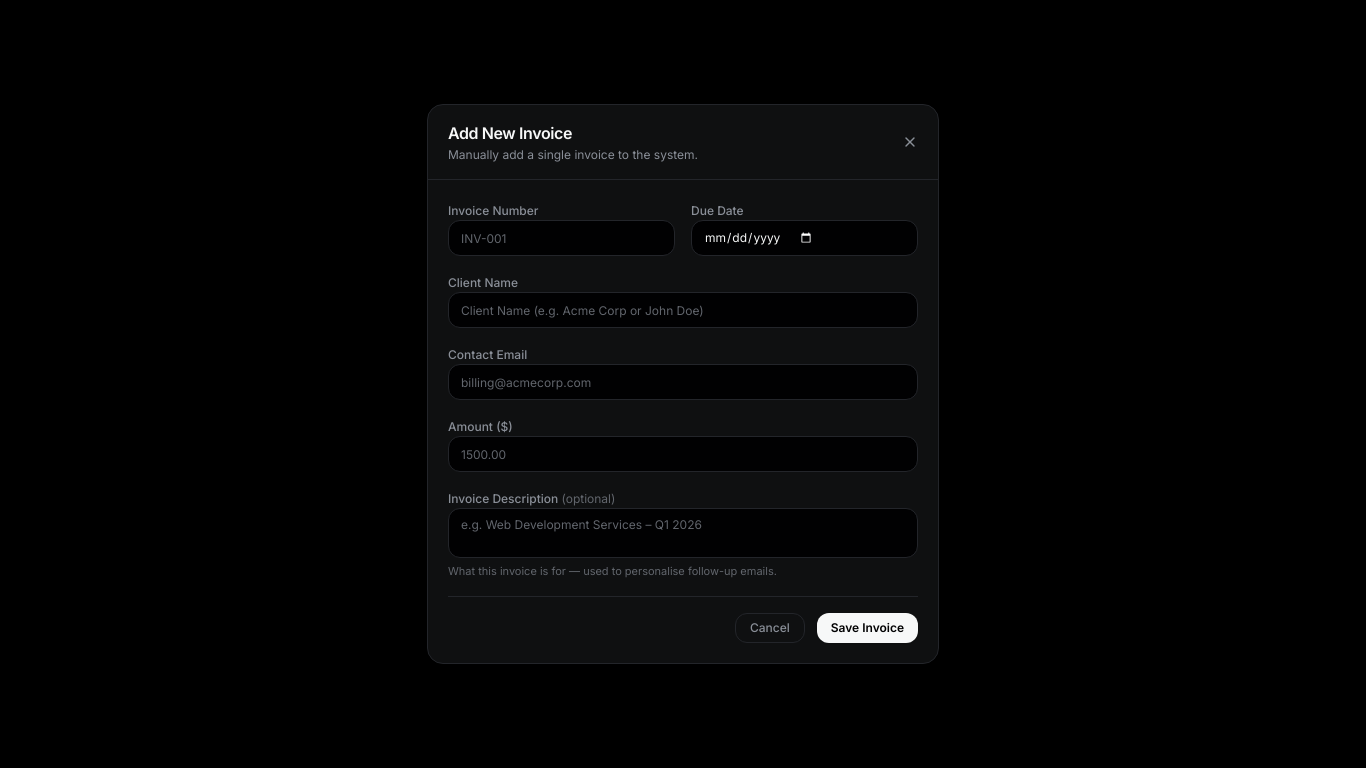
Test case: CreateInvoiceModal component › renders server-side error messages from mutate responses
The width and height of the screenshot is (1366, 768).
// Fill minimum fields
Type "INV-999" into the field labelled "Invoice Number" at (562, 238), box [448, 220, 675, 256]
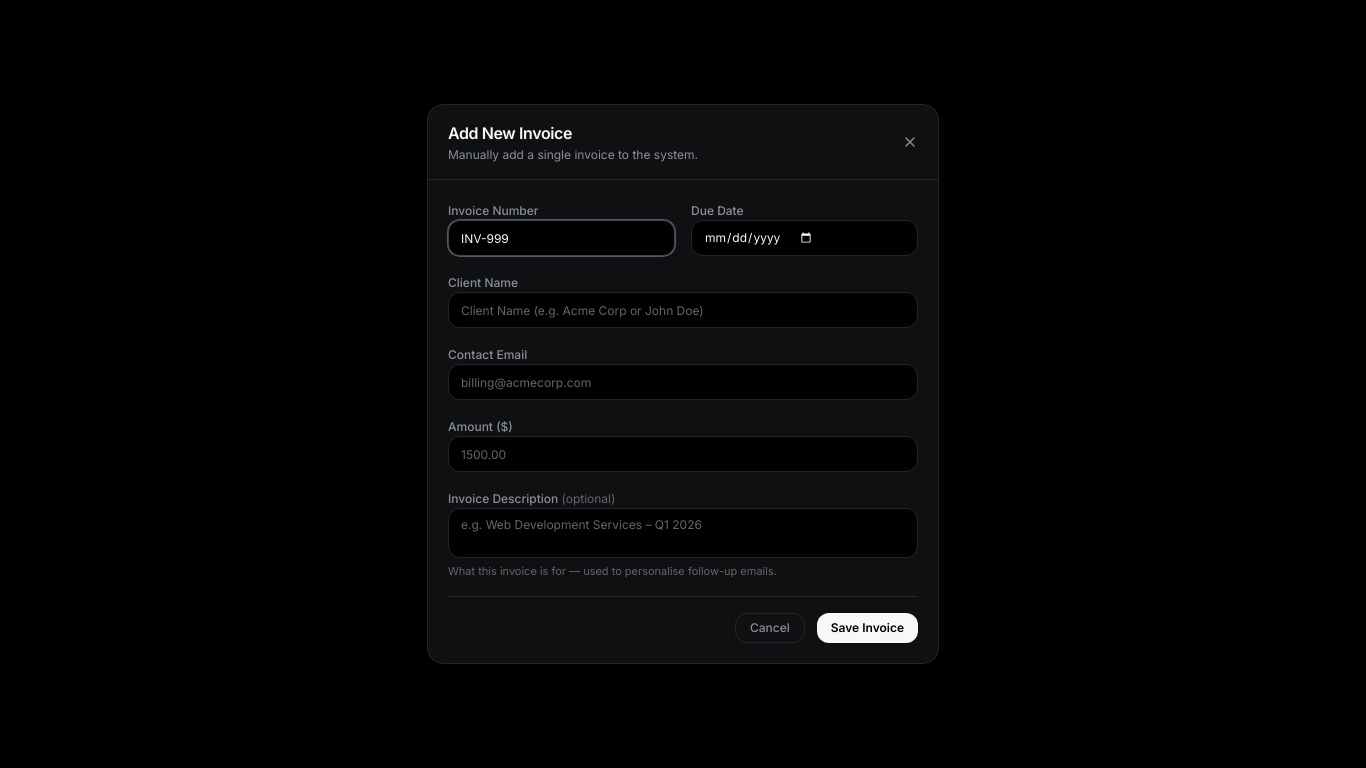
Type "Acme Client" into the field labelled "Client Name" at (683, 310), box [448, 292, 918, 328]
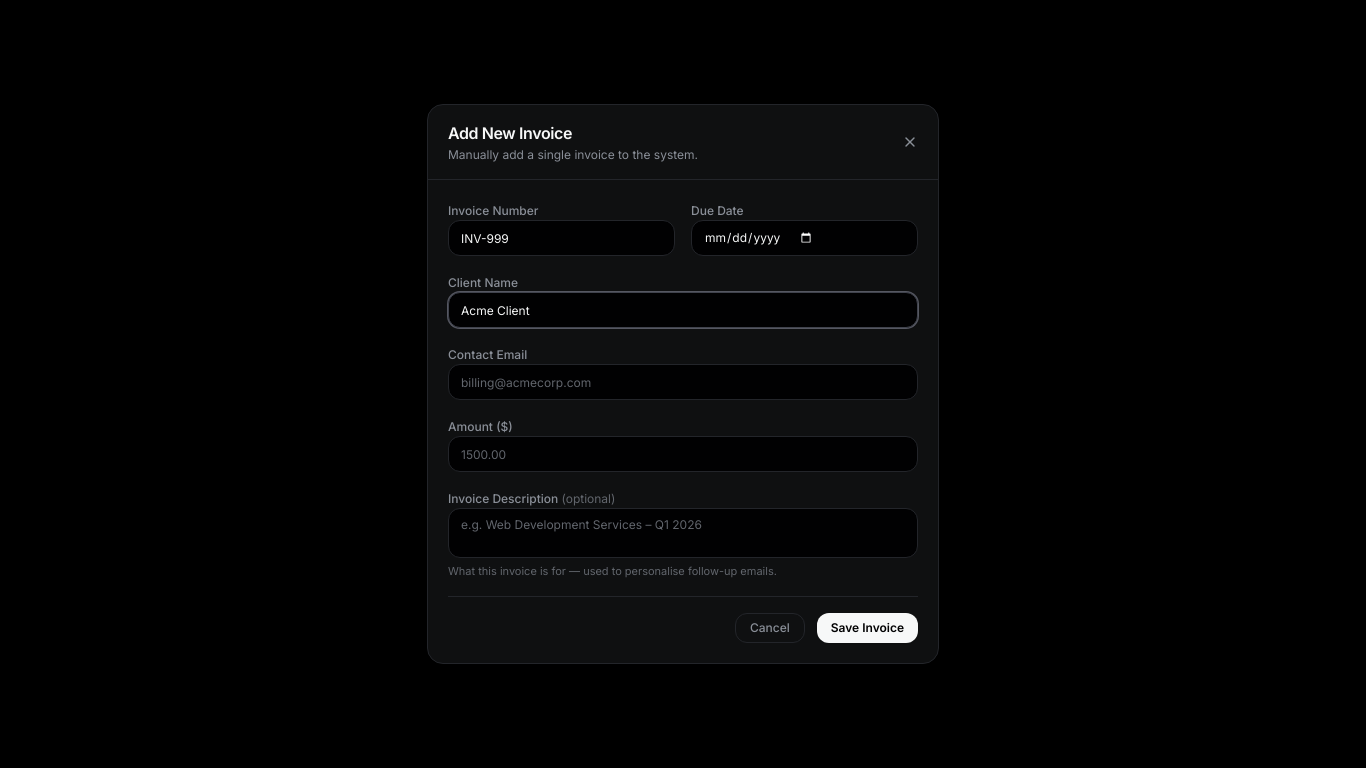
Type "4500" into the number field labelled "Amount ($)" at (683, 454), box [448, 436, 918, 472]
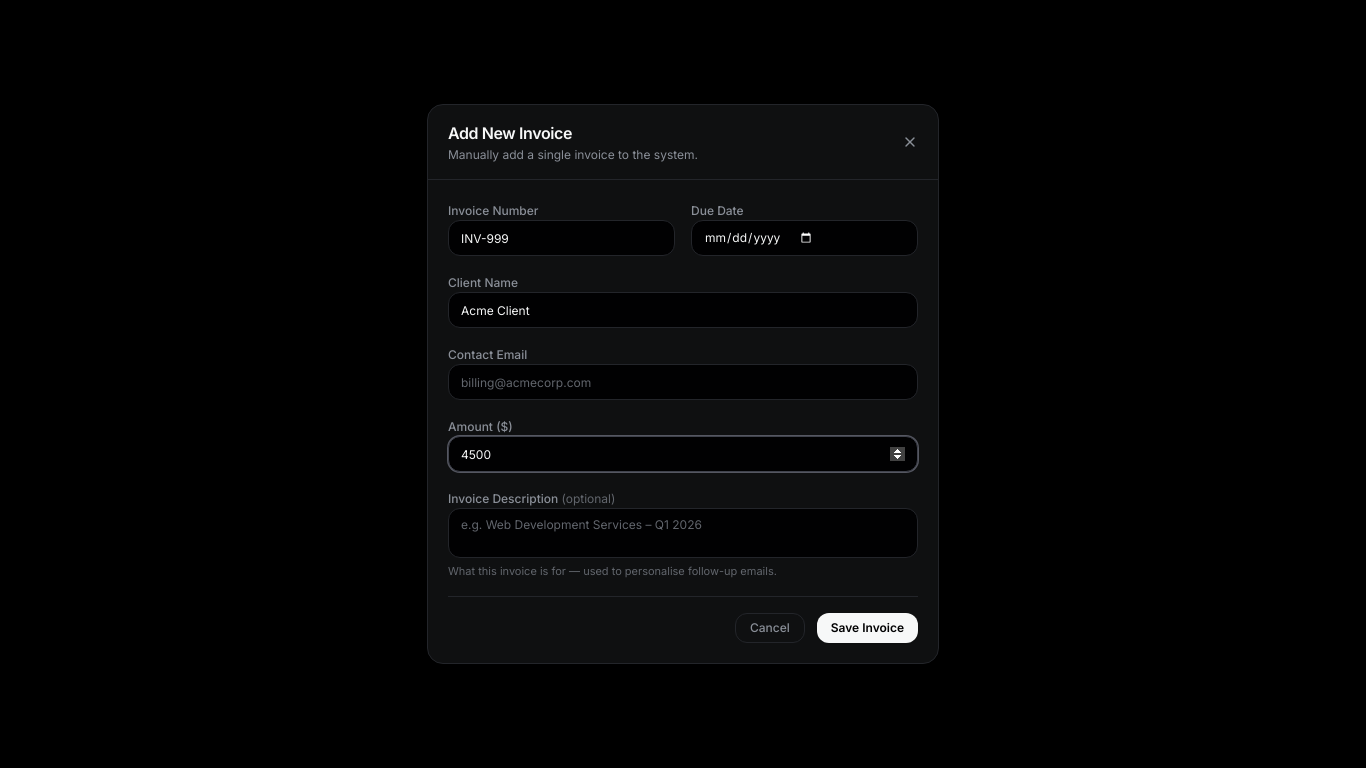
Type "2026-08-15" into the date field labelled "Due Date" at (804, 238), box [691, 220, 918, 256]
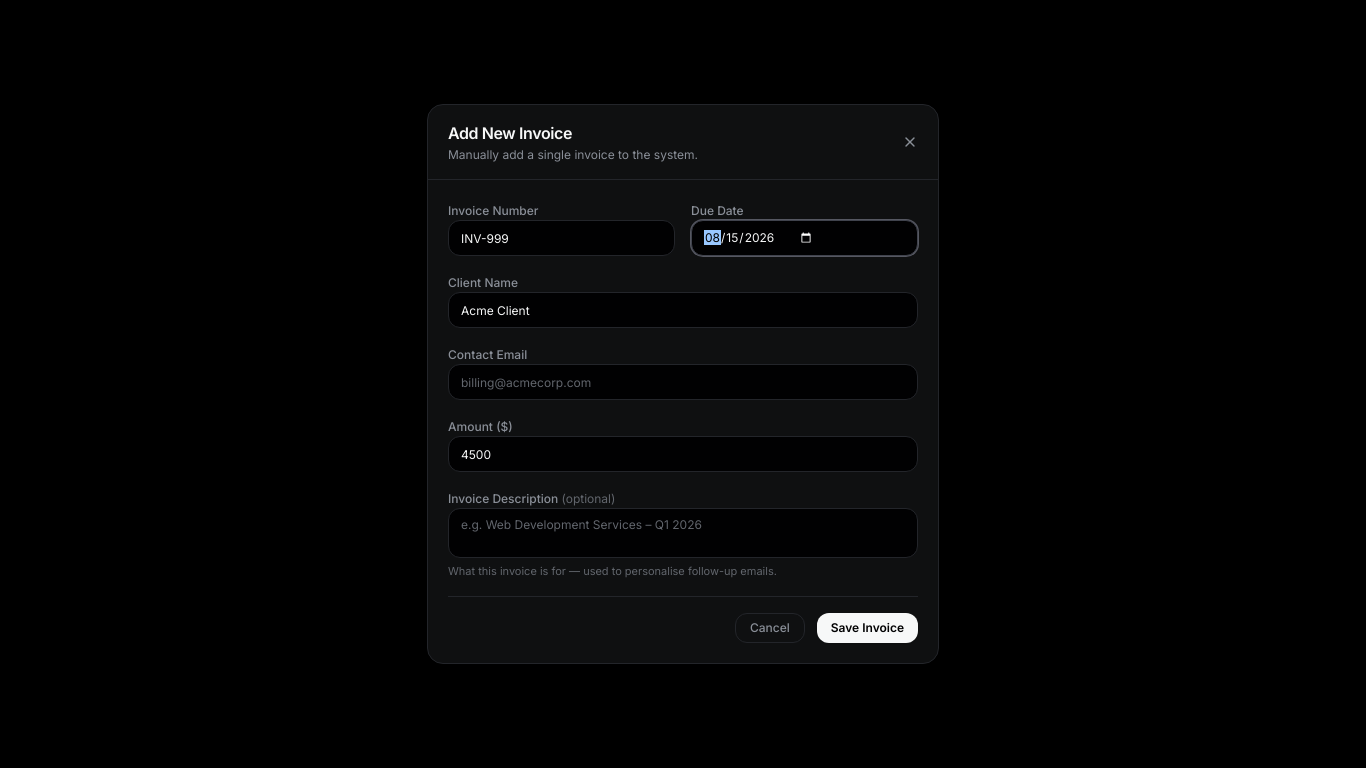
Type "acme@example.com" into the field labelled "Contact Email" at (683, 382), box [448, 364, 918, 400]
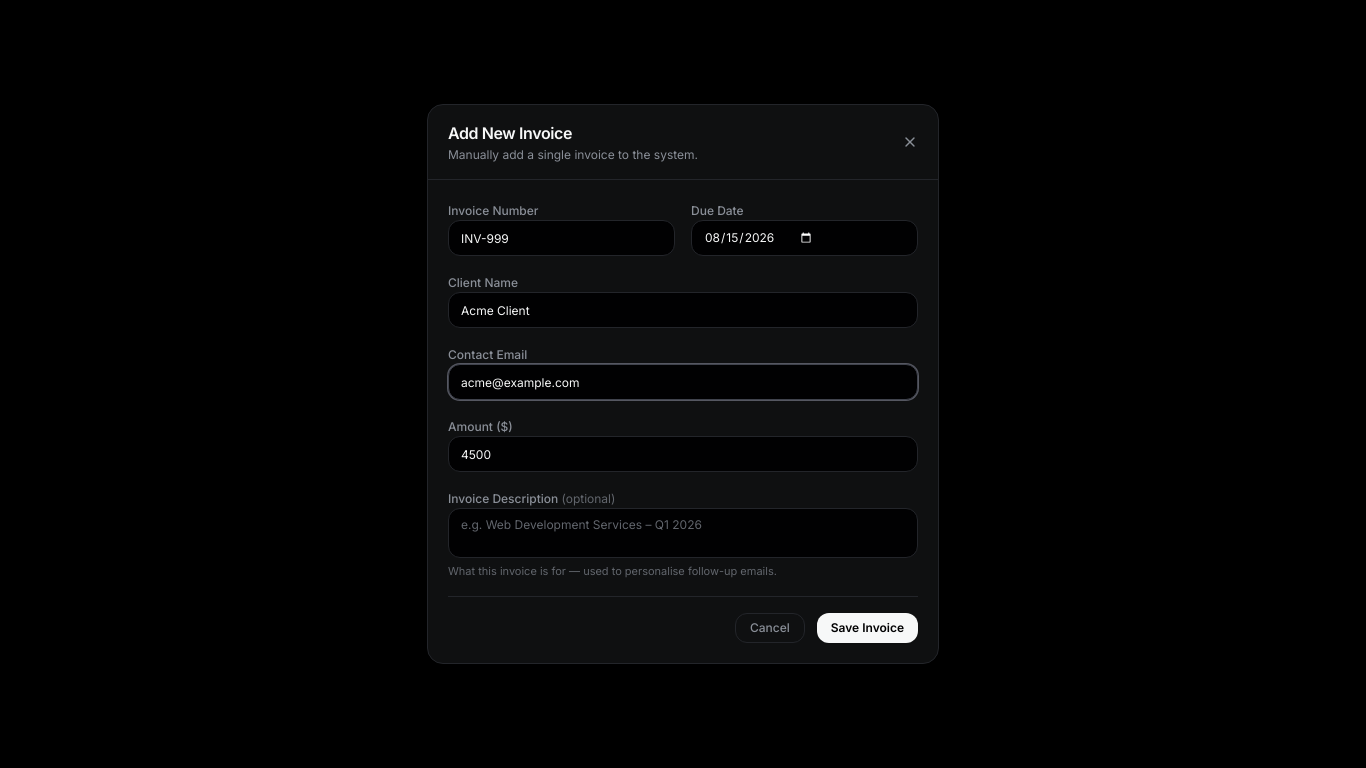
Submit the form named "Save Invoice", box [448, 200, 918, 643]
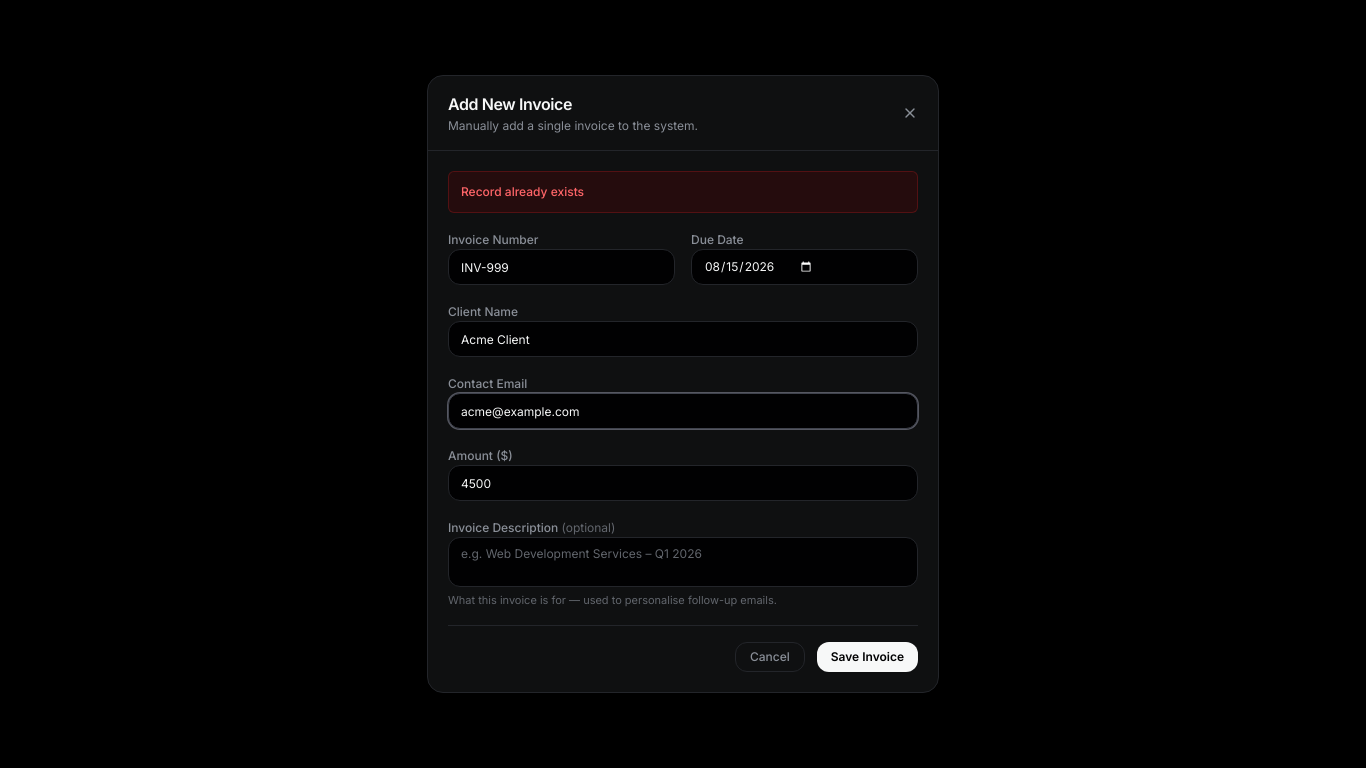
Now the text "Record already exists" is shown, box [448, 171, 918, 213]
